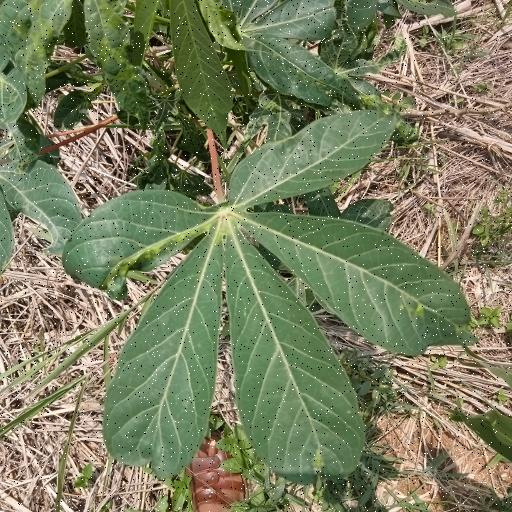Cassava_Mosaic: (74, 108, 470, 476)
